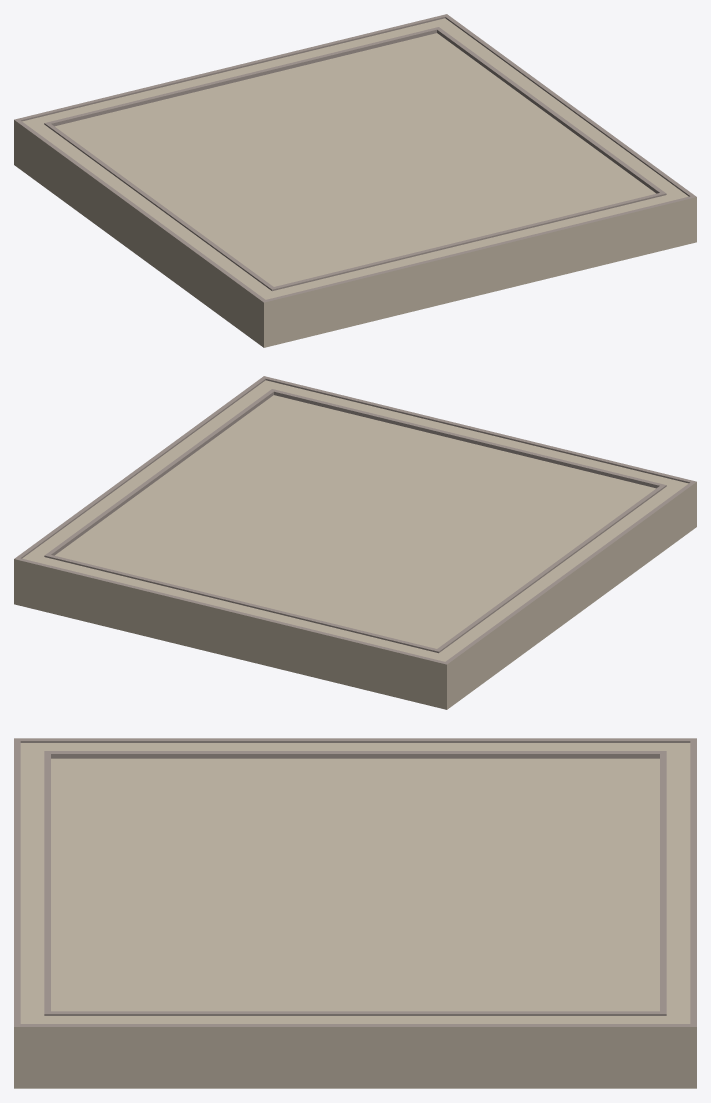
The model's file is sideWalkTile.fbx.
3 renders of one model, top to bottom at view 1: azimuth 30°, elevation 25°; view 2: azimuth 150°, elevation 25°; view 3: azimuth 270°, elevation 25°, orthographic. The views are drawn at different scales.
Visible parts, largest first — view 1: Cube; view 2: Cube; view 3: Cube.
Part boxes in pixels (x1=…): Cube: x1=14, y1=14, x2=696, y2=347; Cube: x1=14, y1=376, x2=696, y2=709; Cube: x1=14, y1=738, x2=696, y2=1088.
Size of the model in its own units: 200 by 20 by 200.
